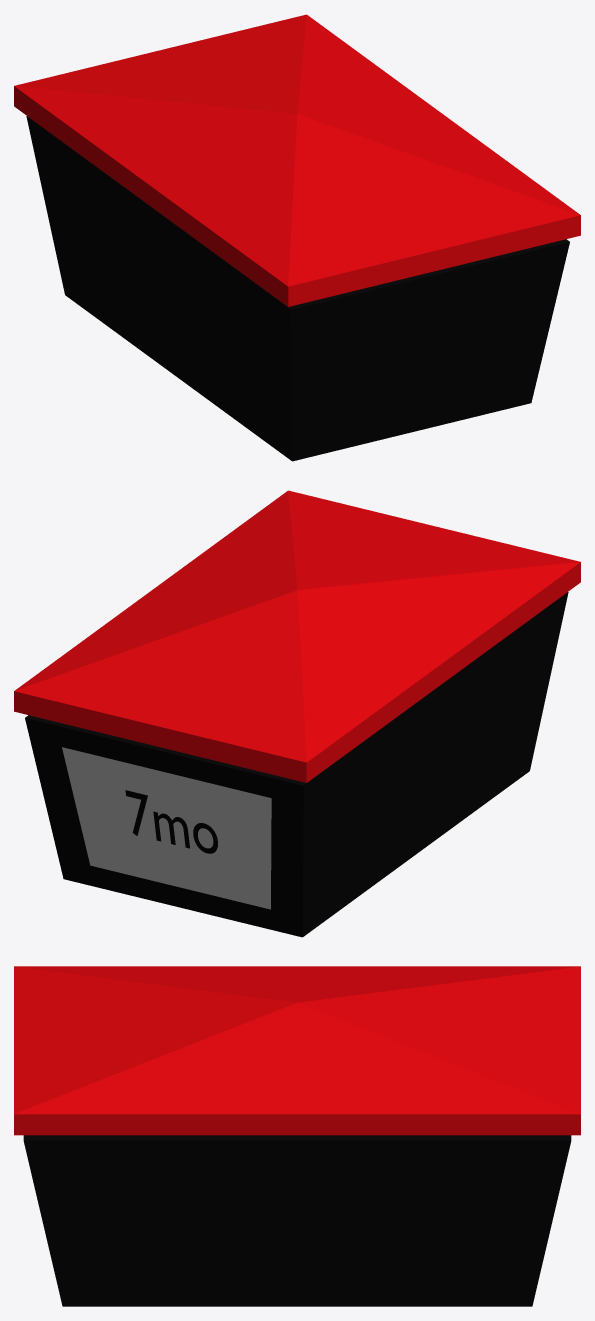
The model's file is Caja.fbx.
The picture shows the model from 3 angles, top to bottom: view 1: azimuth 30°, elevation 25°; view 2: azimuth 150°, elevation 25°; view 3: azimuth 270°, elevation 25°; orthographic projection. The views are drawn at different scales.
Parts seen in each view (by area): view 1: Cube.001, Cube; view 2: Cube.001, Cube, Text; view 3: Cube.001, Cube.
Part boxes in pixels (<box>): Cube.001: <box>14,14,580,306</box>; Cube: <box>26,116,569,461</box>; Cube.001: <box>14,490,580,782</box>; Cube: <box>25,592,568,937</box>; Text: <box>125,790,217,853</box>; Cube.001: <box>14,966,580,1135</box>; Cube: <box>23,1135,571,1306</box>.
Bounding box in the file's own units: 360 × 276 × 584.
